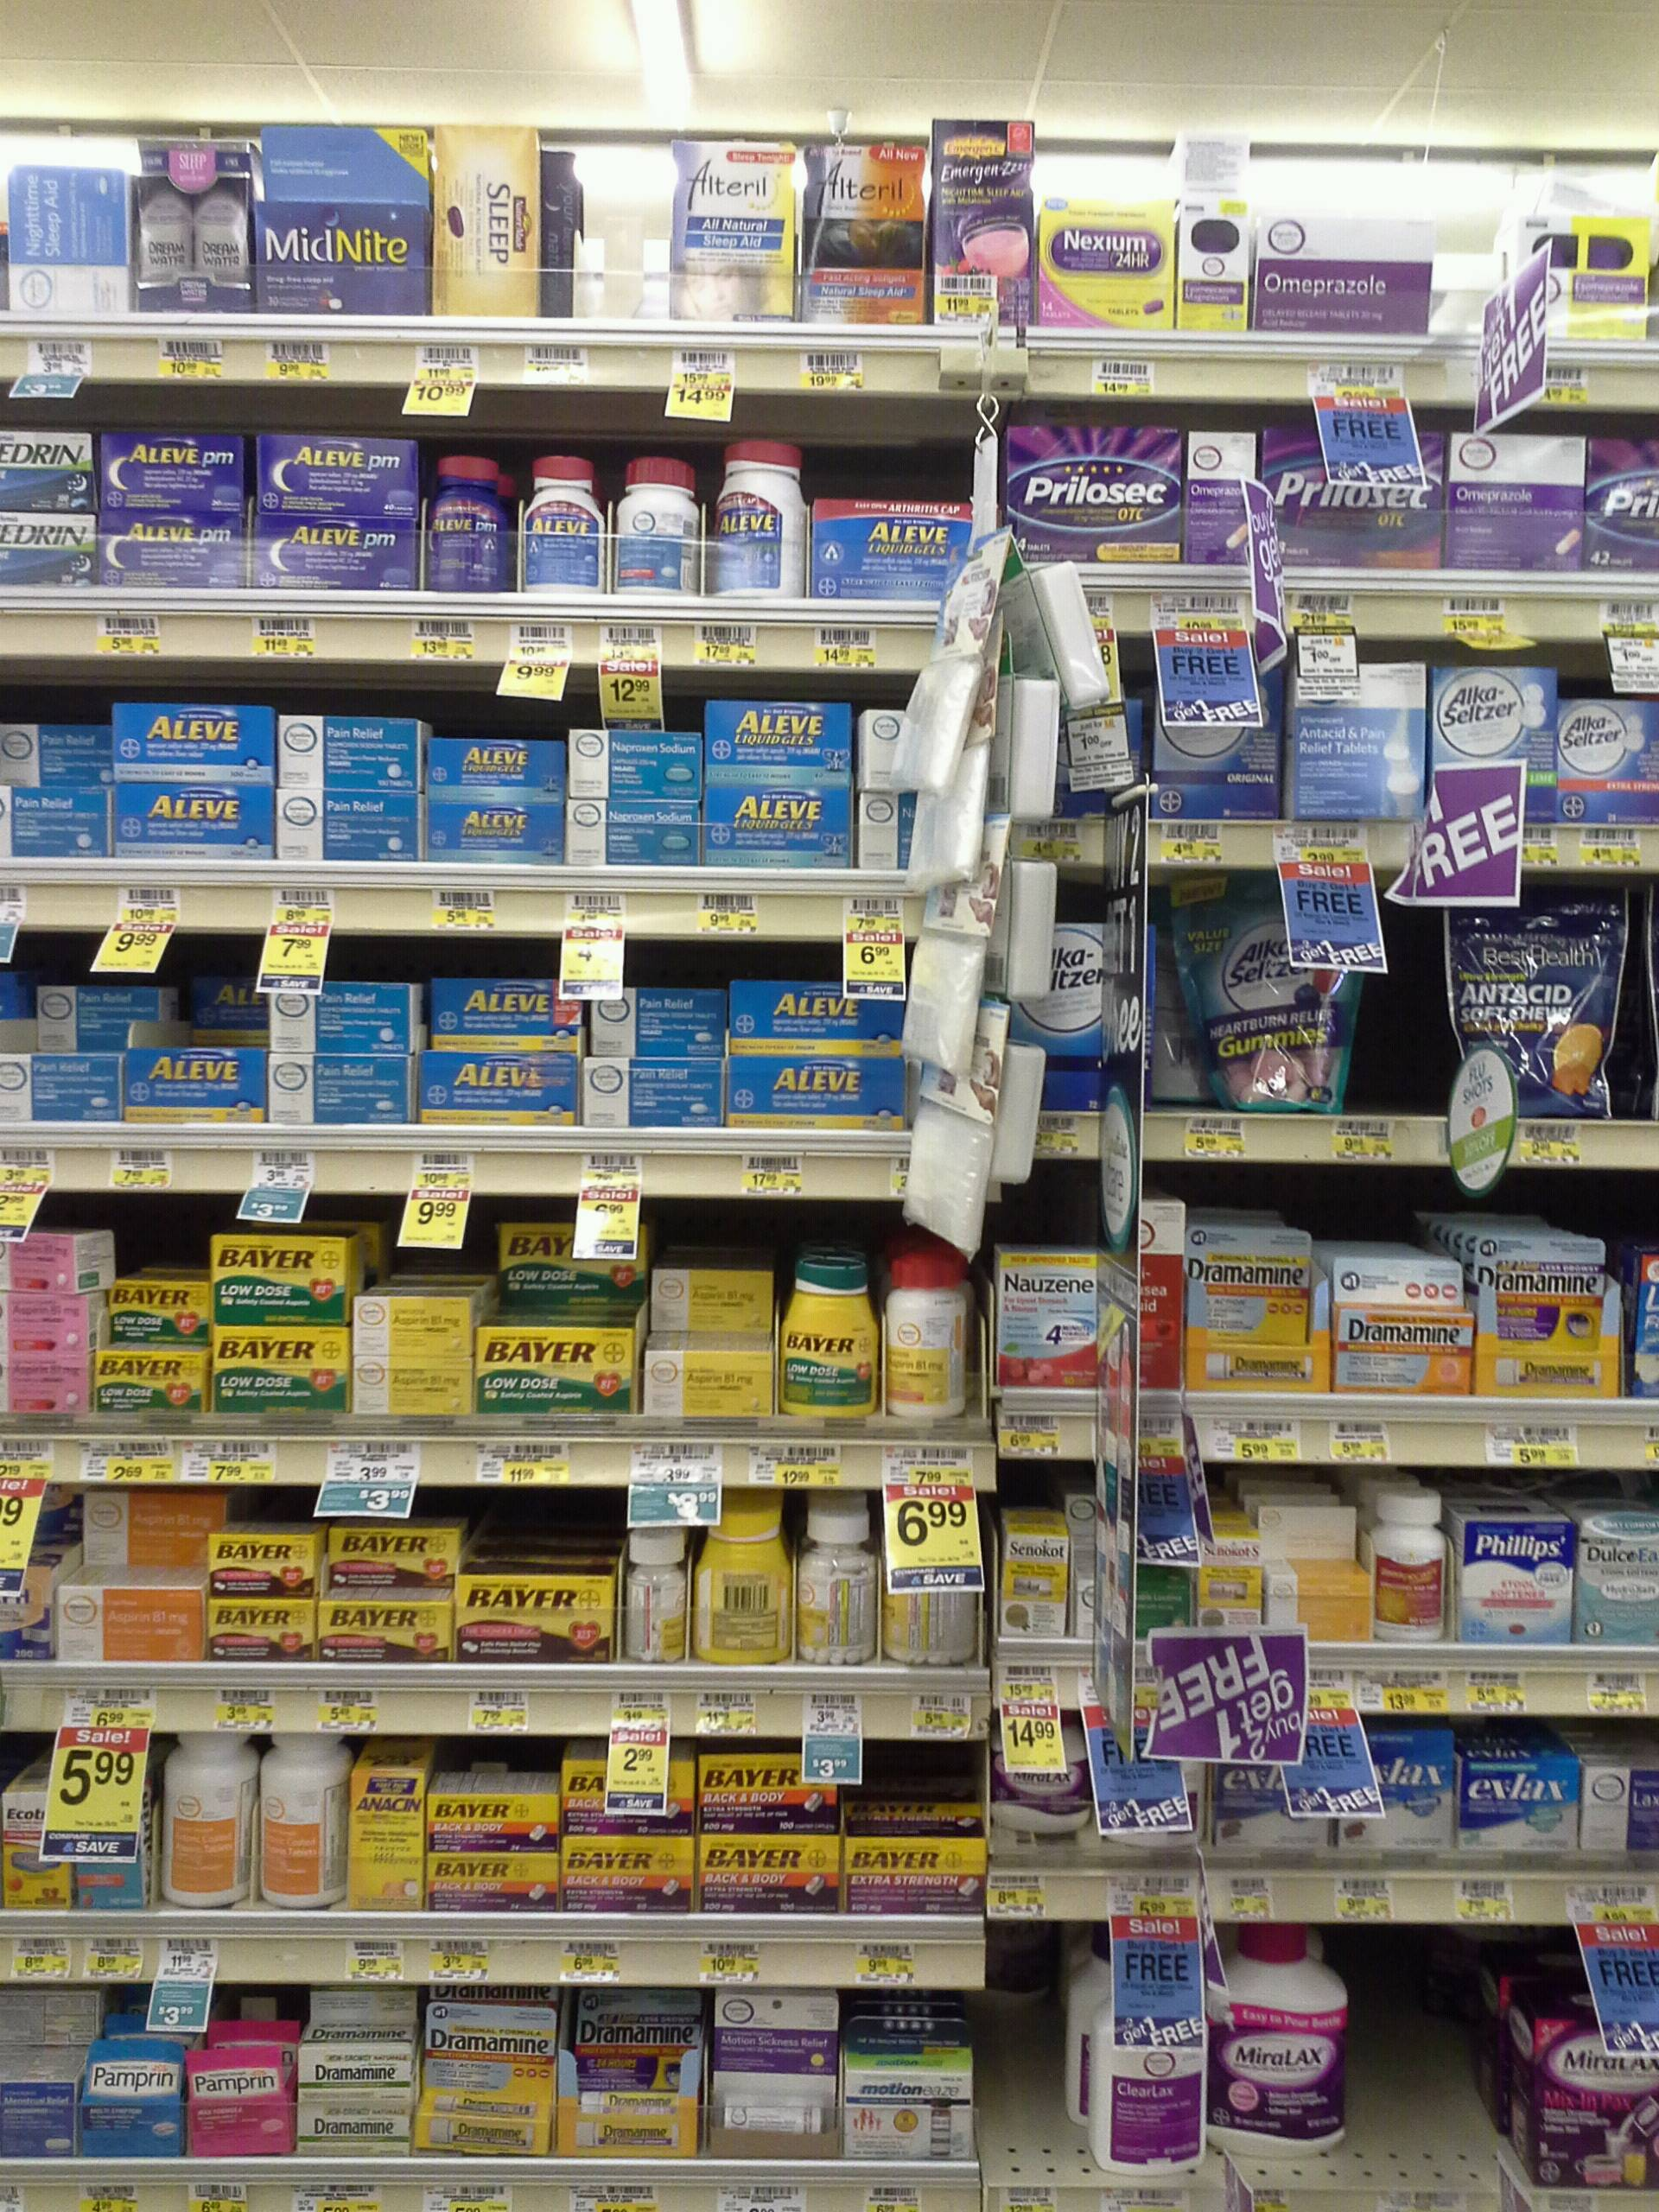Misplacement: (129, 974, 268, 1125)
Out-of-stock: (1349, 1925, 1509, 2189)
